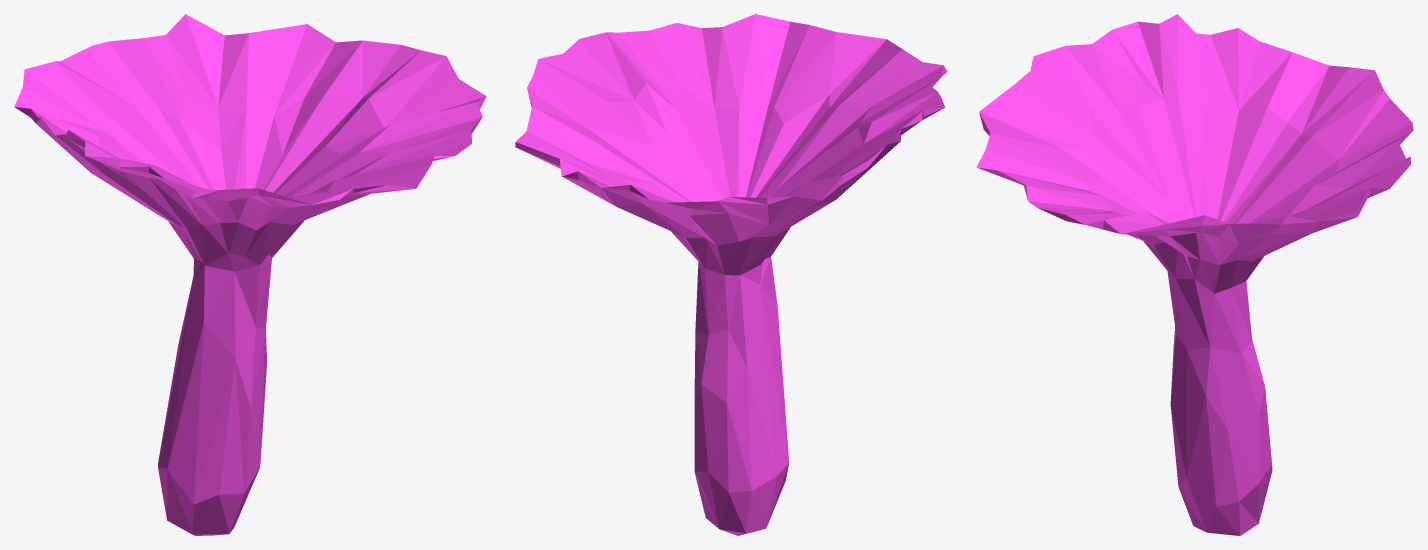
Rendered from SM_Mushroom_Trumpet_Big_A_Fantasy.fbx.
3 views of the same model, side by side, from view 1: azimuth 30°, elevation 25°; view 2: azimuth 150°, elevation 25°; view 3: azimuth 270°, elevation 25° (orthographic). The views are drawn at different scales.
Parts seen in each view (by area): view 1: SM_Mushroom_Trumpet_Big_A_Fantasy; view 2: SM_Mushroom_Trumpet_Big_A_Fantasy; view 3: SM_Mushroom_Trumpet_Big_A_Fantasy.
Part boxes in pixels (<box>): SM_Mushroom_Trumpet_Big_A_Fantasy: <box>14,14,486,535</box>; SM_Mushroom_Trumpet_Big_A_Fantasy: <box>515,14,947,535</box>; SM_Mushroom_Trumpet_Big_A_Fantasy: <box>976,14,1413,535</box>.
Bounding box in the file's own units: 2.41 × 2.69 × 2.42.
